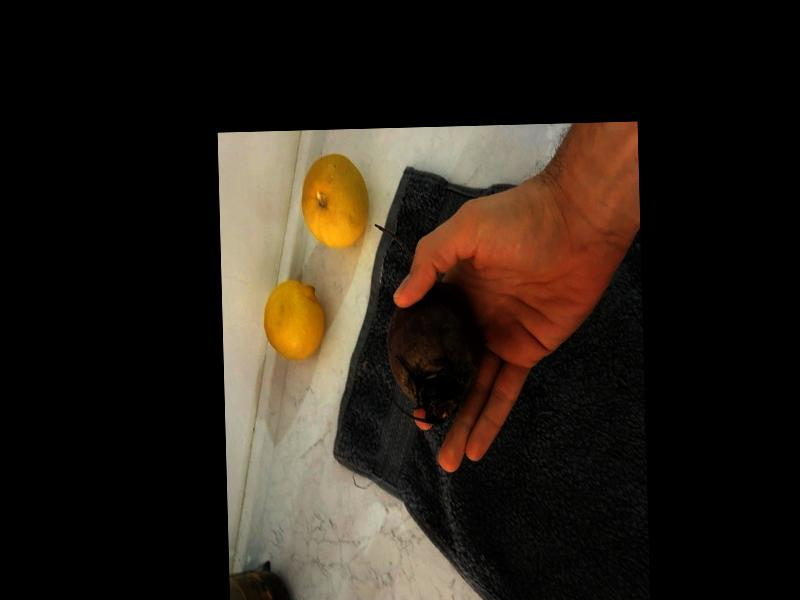Beet: (374, 220, 483, 424)
